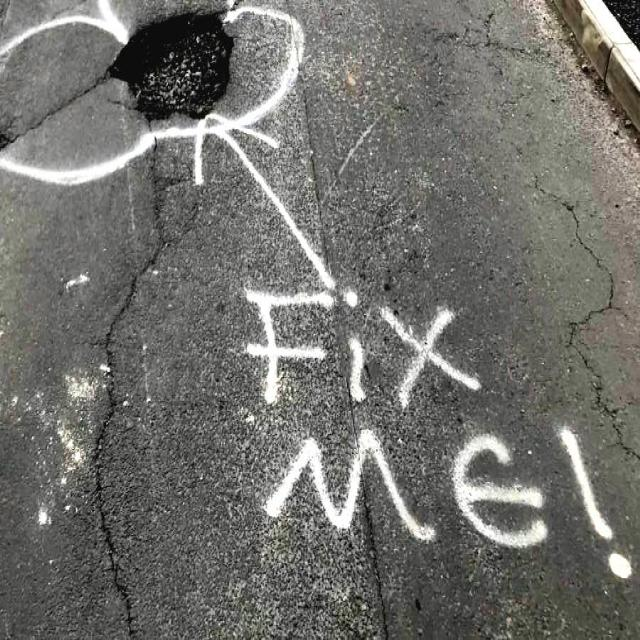pothole: (117, 15, 234, 124)
